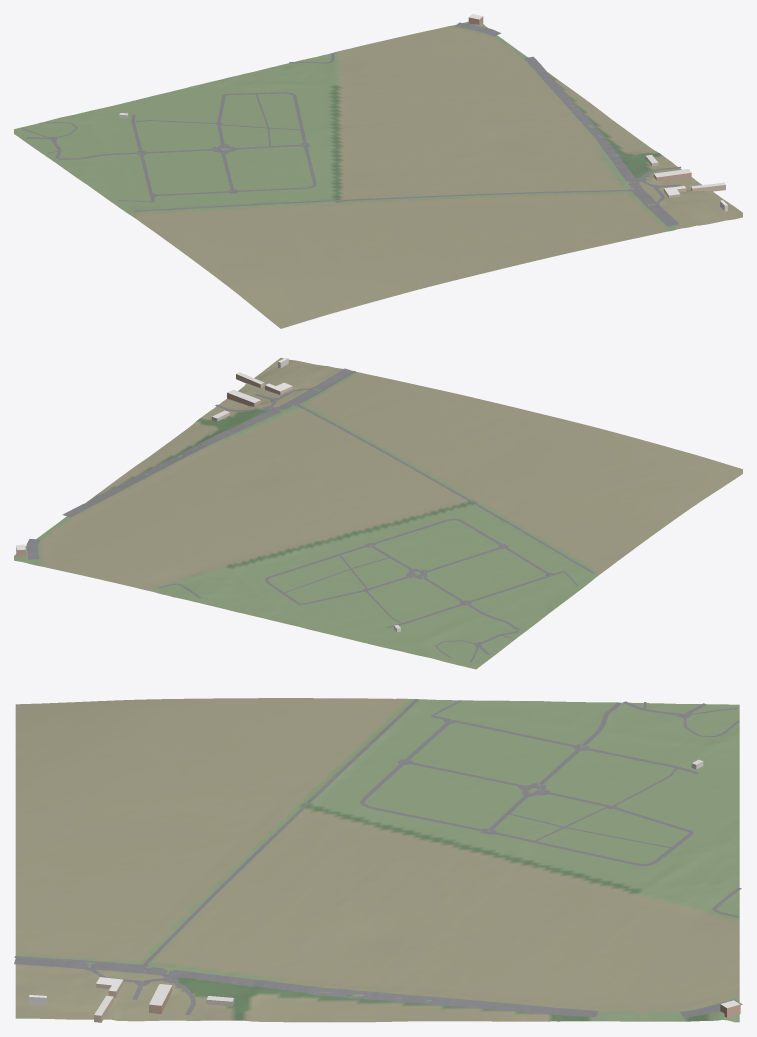
The picture shows the model from 3 angles, top to bottom: view 1: azimuth 30°, elevation 25°; view 2: azimuth 150°, elevation 25°; view 3: azimuth 270°, elevation 25°; orthographic projection. The views are drawn at different scales.
Parts seen in each view (by area): view 1: prim0, prim2, prim1; view 2: prim0, prim2, prim1; view 3: prim0, prim2, prim1.
Part boxes in pixels (x1,y1,x2,y2): prim0: [14, 21, 742, 328]; prim2: [21, 22, 681, 226]; prim1: [119, 14, 727, 211]; prim0: [14, 357, 742, 669]; prim2: [26, 368, 594, 662]; prim1: [16, 357, 400, 632]; prim0: [15, 698, 739, 1022]; prim2: [14, 699, 742, 1017]; prim1: [29, 759, 740, 1022].
Bounding box in the file's own units: 528 × 15.92 × 515.
